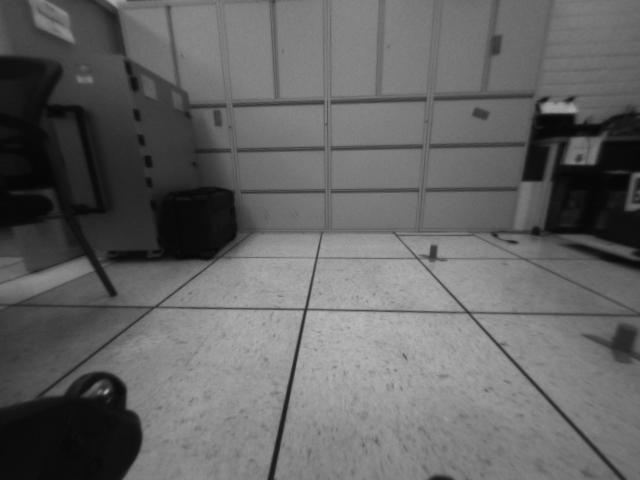X: (419, 243, 448, 264)
